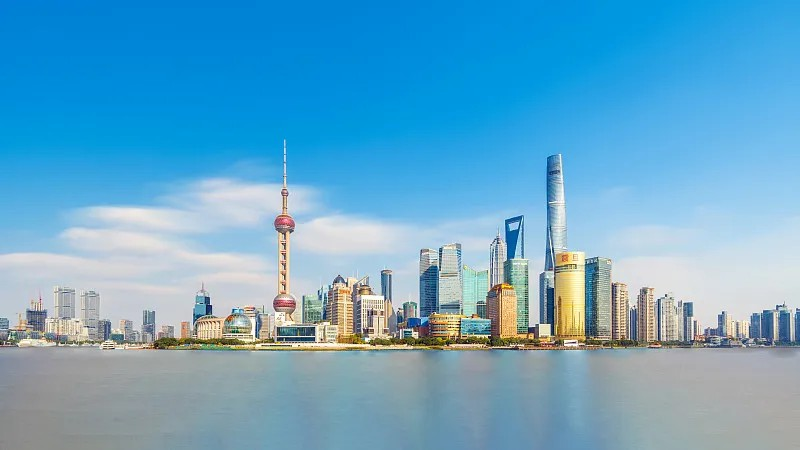Oriental: (272, 140, 296, 321)
